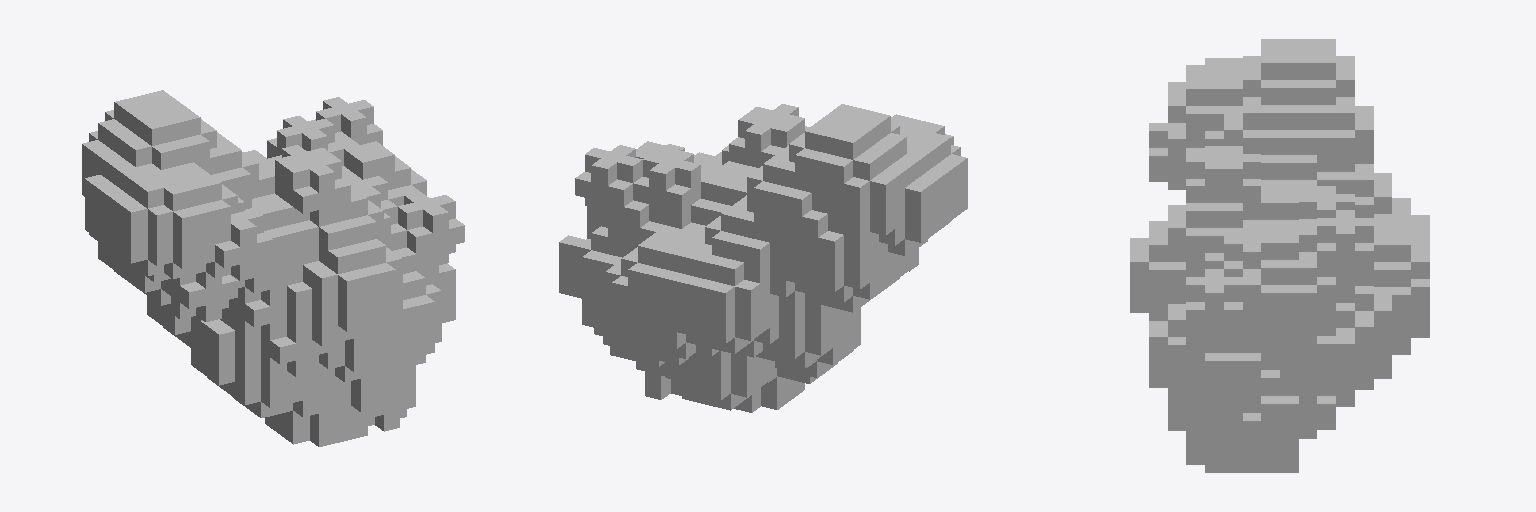
Rendered from a1empty.obj.
3 views of the same model, side by side, from view 1: azimuth 30°, elevation 25°; view 2: azimuth 150°, elevation 25°; view 3: azimuth 270°, elevation 25° (orthographic).
Parts seen in each view (by area): view 1: object 1; view 2: object 1; view 3: object 1.
Boxes of the visible parts, x1,y1,x2,y2 form: object 1: [82, 90, 464, 446]; object 1: [559, 104, 967, 412]; object 1: [1130, 39, 1429, 472].
Bounding box in the file's own units: 2 × 1.9 × 1.6.